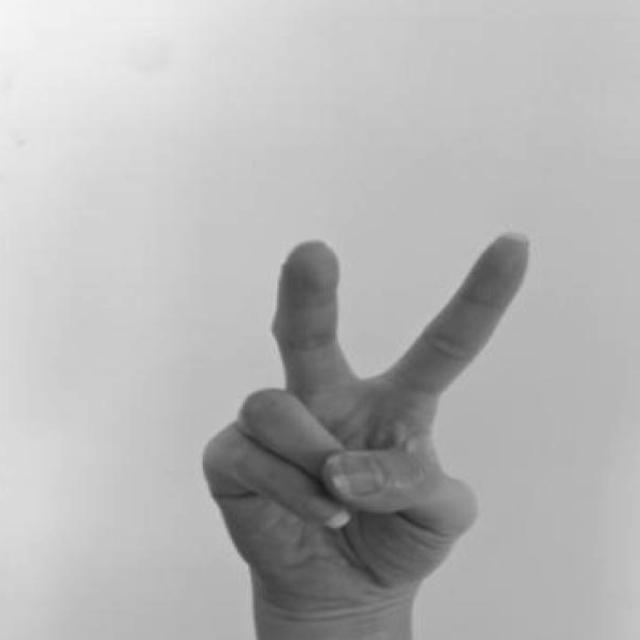V: (190, 197, 556, 640)
